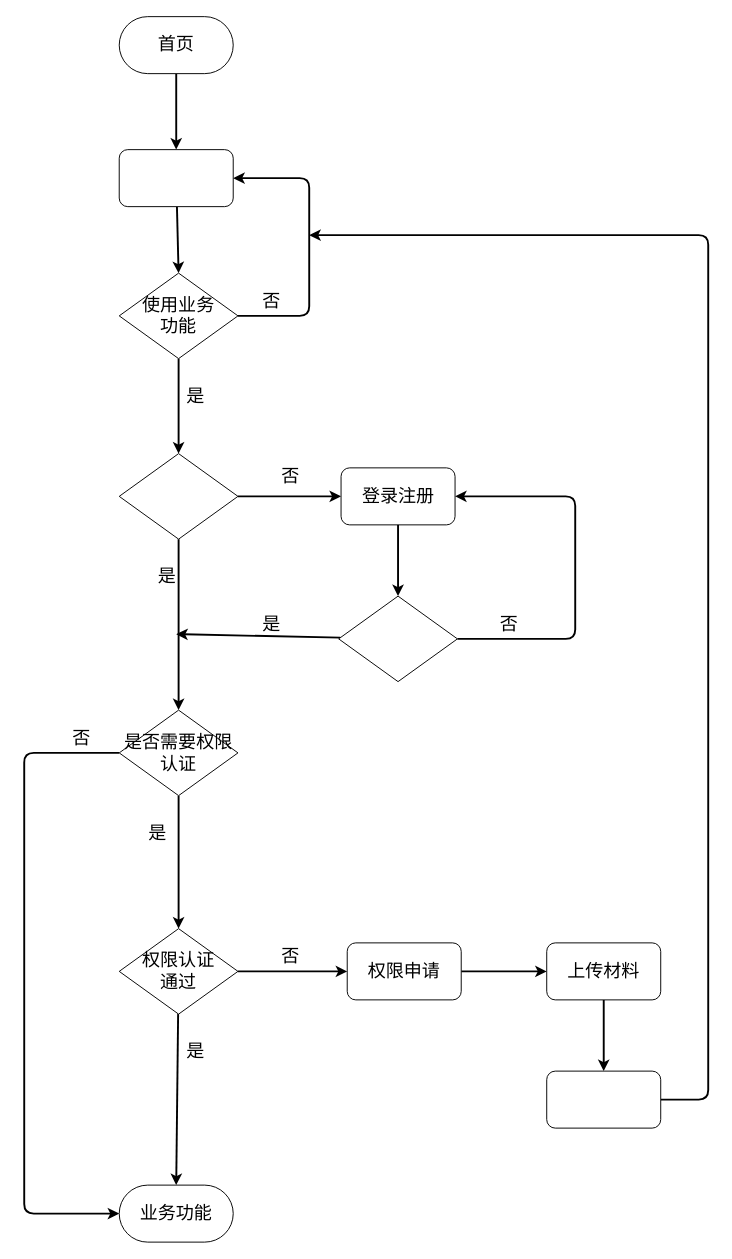
This 732x1259 diagram has some shape labels left out. The shapes that lost their labels are listed below. From the top down, each one's centre as x and y in pixels, then its label:
(x=175, y=178): 访问其他页面
(x=178, y=496): 是否登录
(x=397, y=638): 登录成功
(x=603, y=1099): 审核材料
